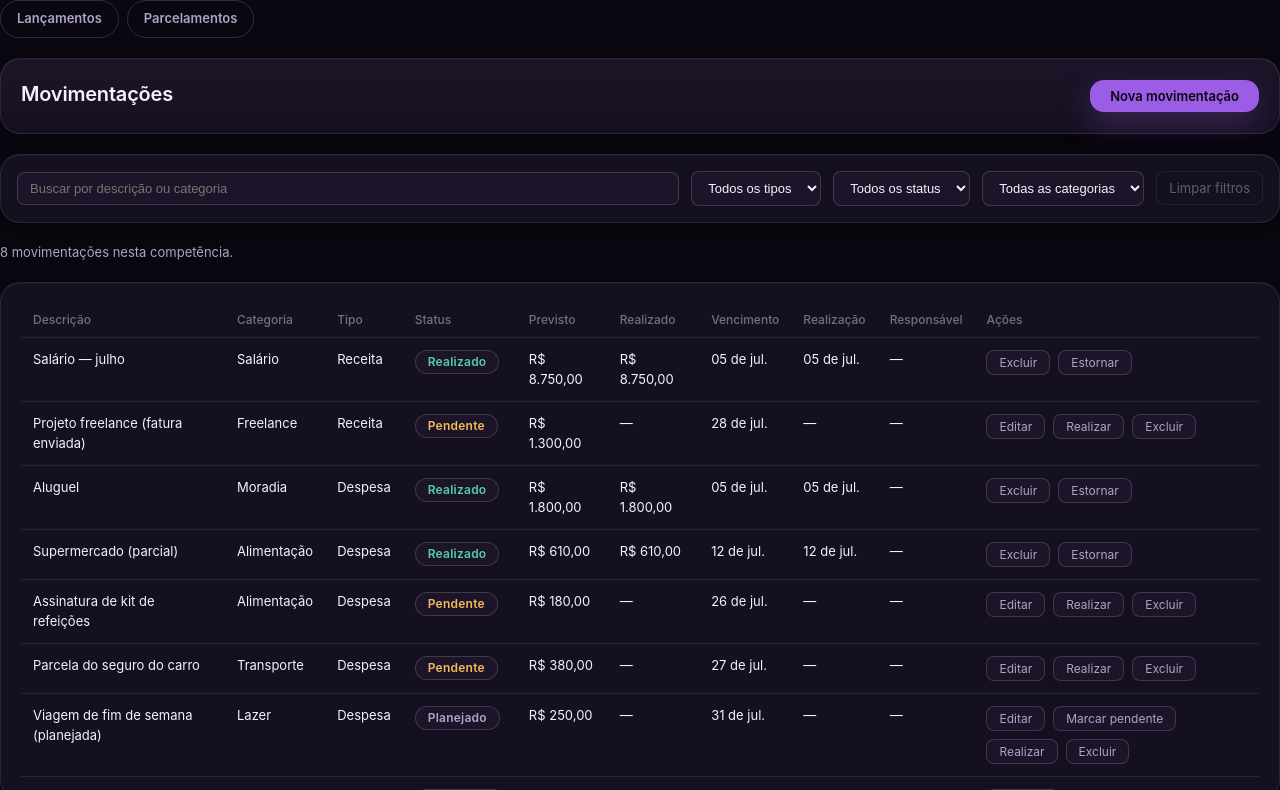
FinancialEntriesPage › cria uma nova movimentação através do formulário e atualiza a lista
Click the button "Nova movimentação" at [1175, 96], box [1090,80,1259,112]
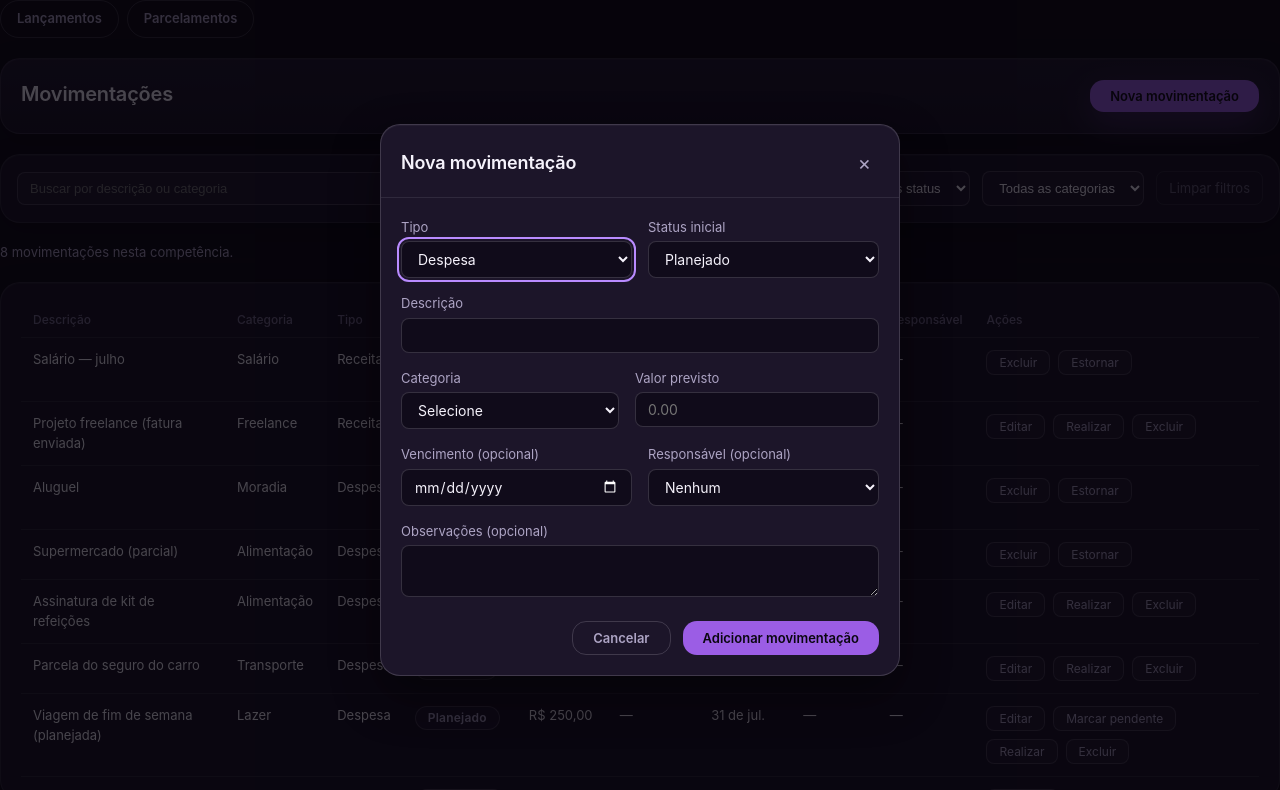
Type "Presente de teste" into the field labelled "Descrição" at [640, 335], box [401,318,879,353]
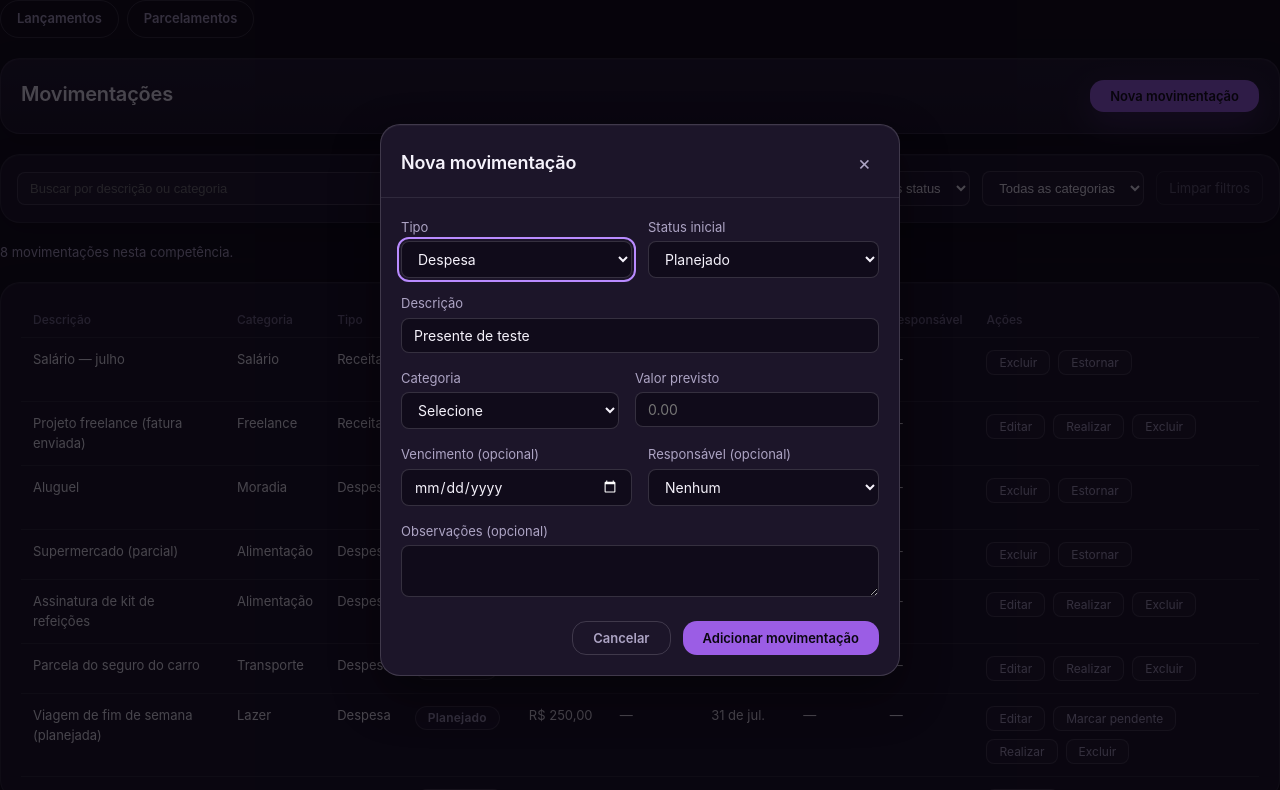
Select "Alimentação" in the dropdown labelled "Categoria" at [510, 411], box [401,392,619,429]
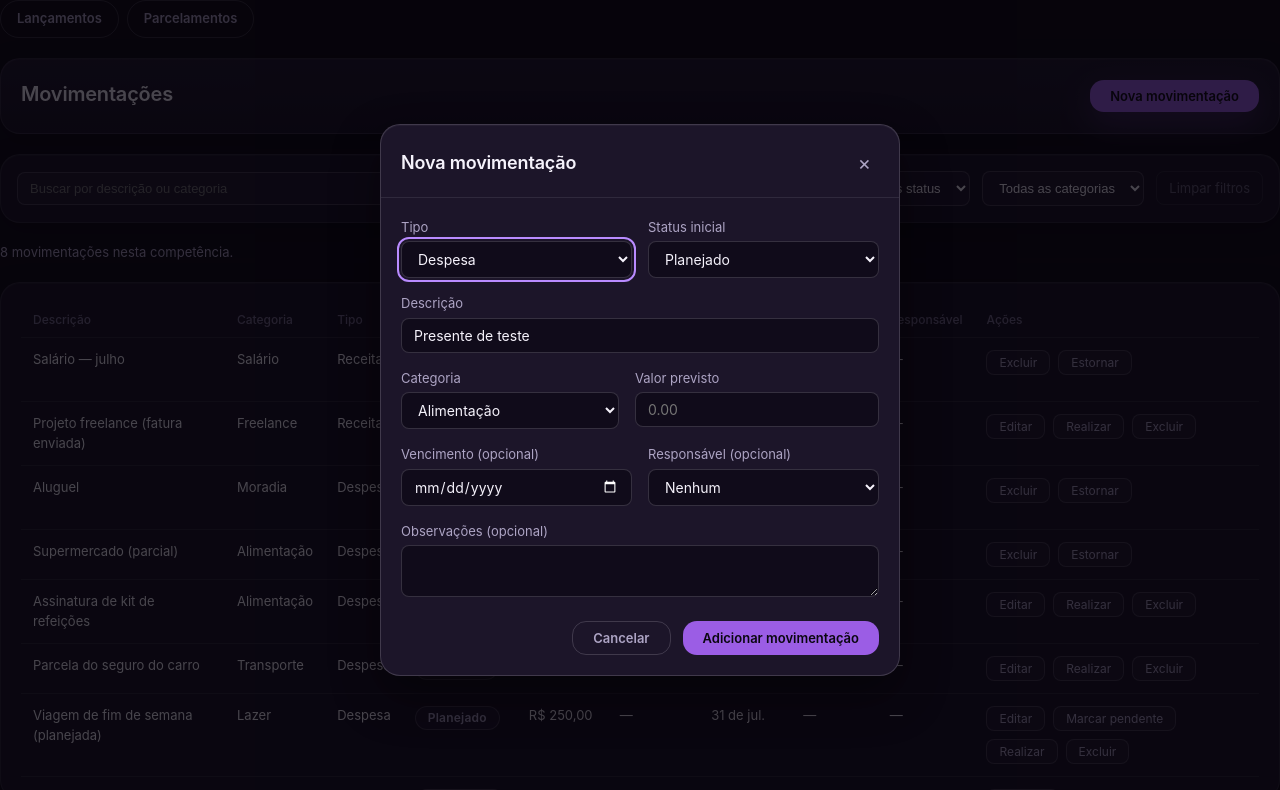
Type "45.00" into the field labelled "Valor previsto" at [757, 410], box [635,392,879,427]
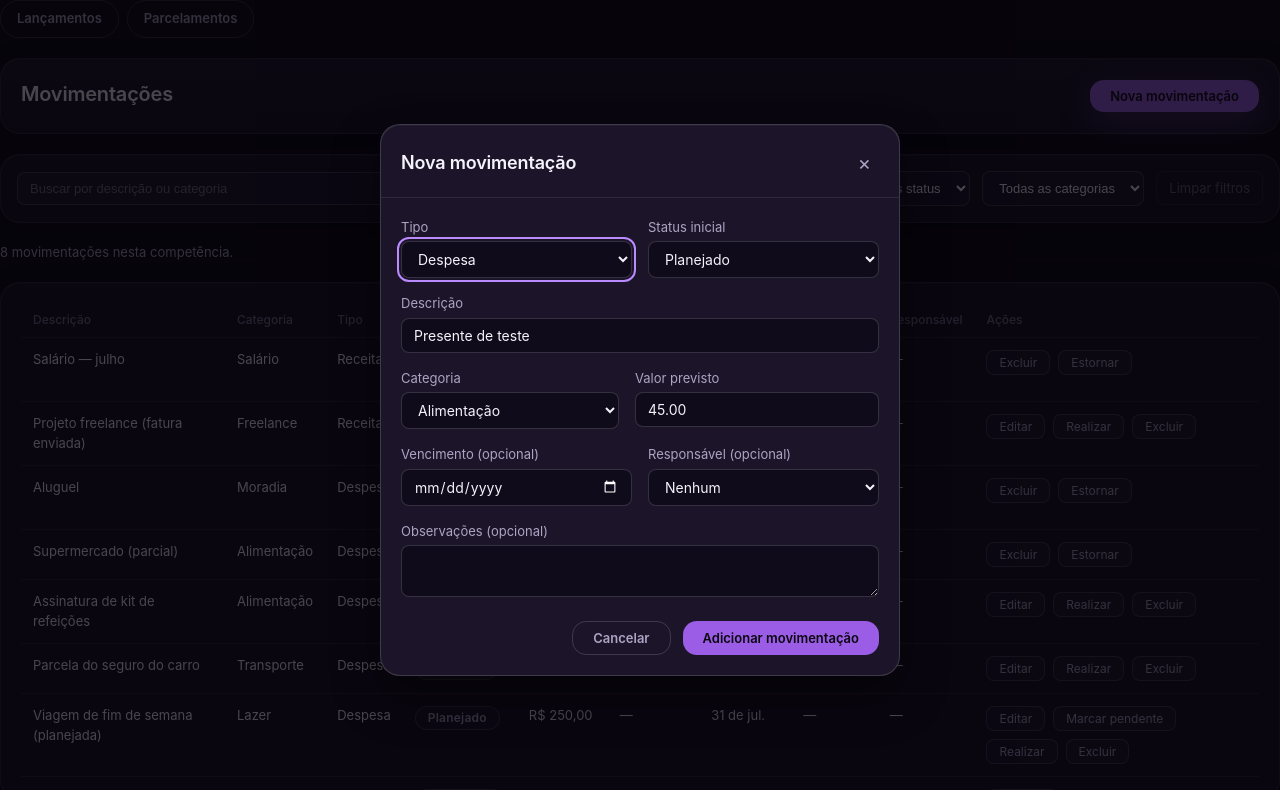
Click the button "Adicionar movimentação" at [781, 638], box [682,621,879,655]
(page scrolled)
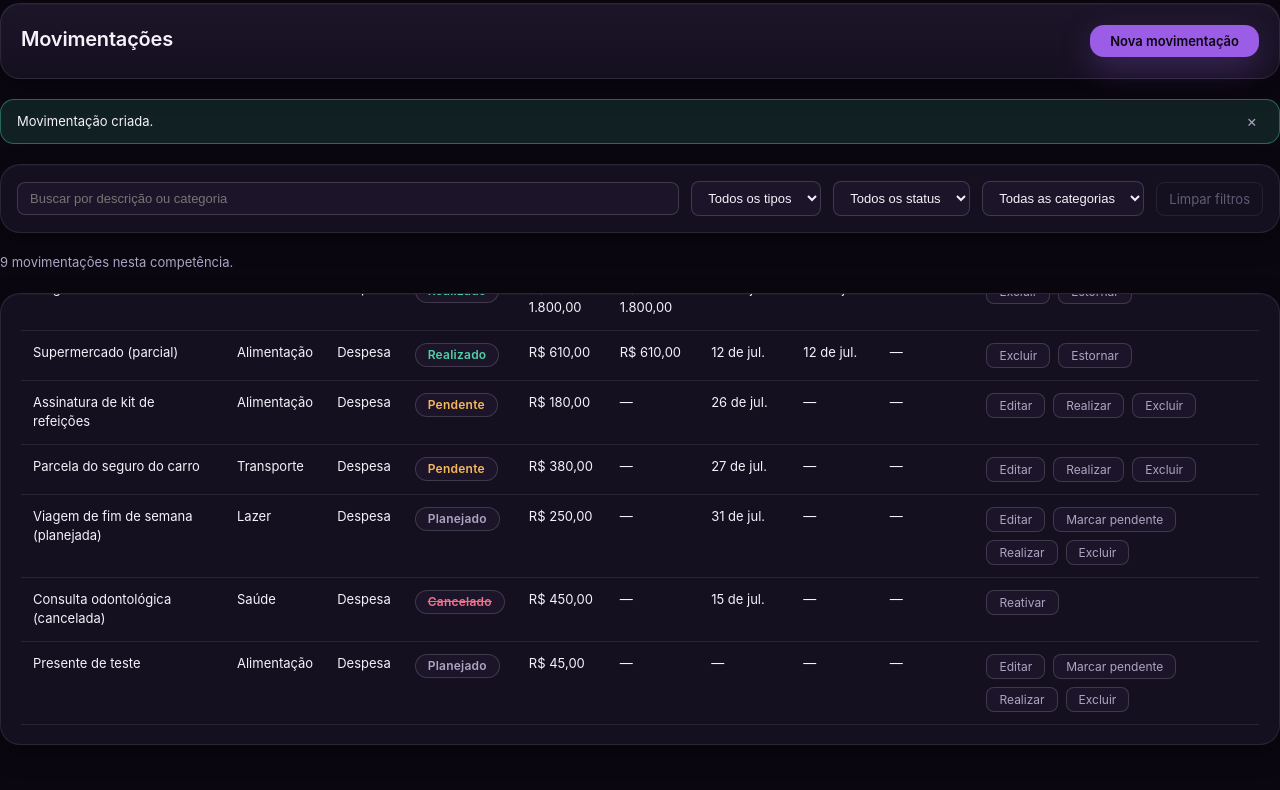
Result: the dialog is gone
Result: the text "Presente de teste" is shown at [33,654,140,673]
